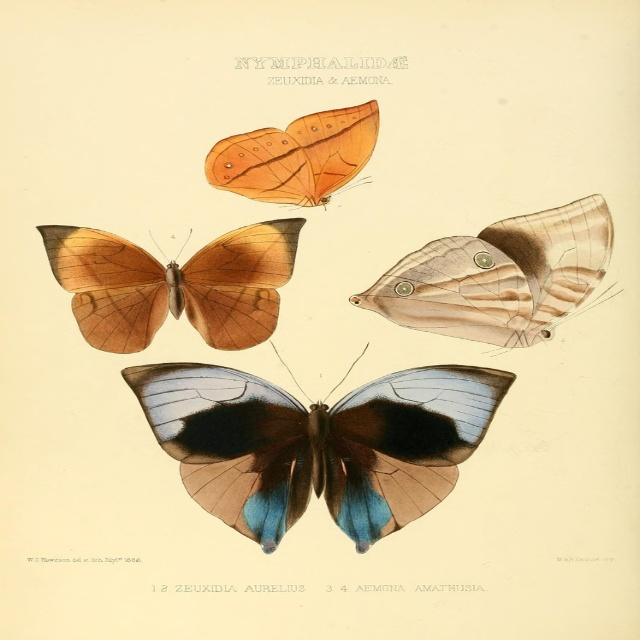Butterfly: (121, 338, 524, 552), (344, 191, 626, 357), (34, 213, 304, 360), (208, 99, 389, 214)
